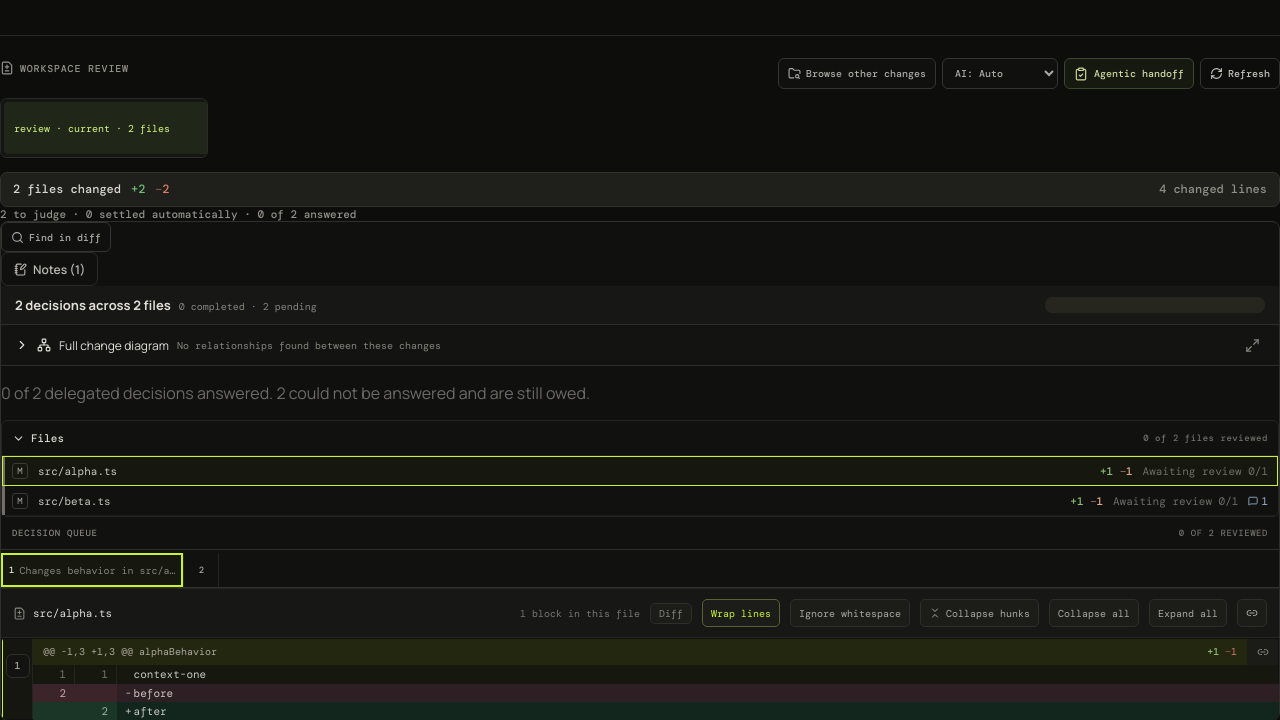
it: review notes in the diff view › lists a stored draft by file and line, and jumps to the line in a file that is not on screen
Expected: the element named "Full diff for src/alpha.ts" is shown, [1,589,1279,719]
Click the button "Notes (1)". click: (50, 269)
box: [1,252,98,286]
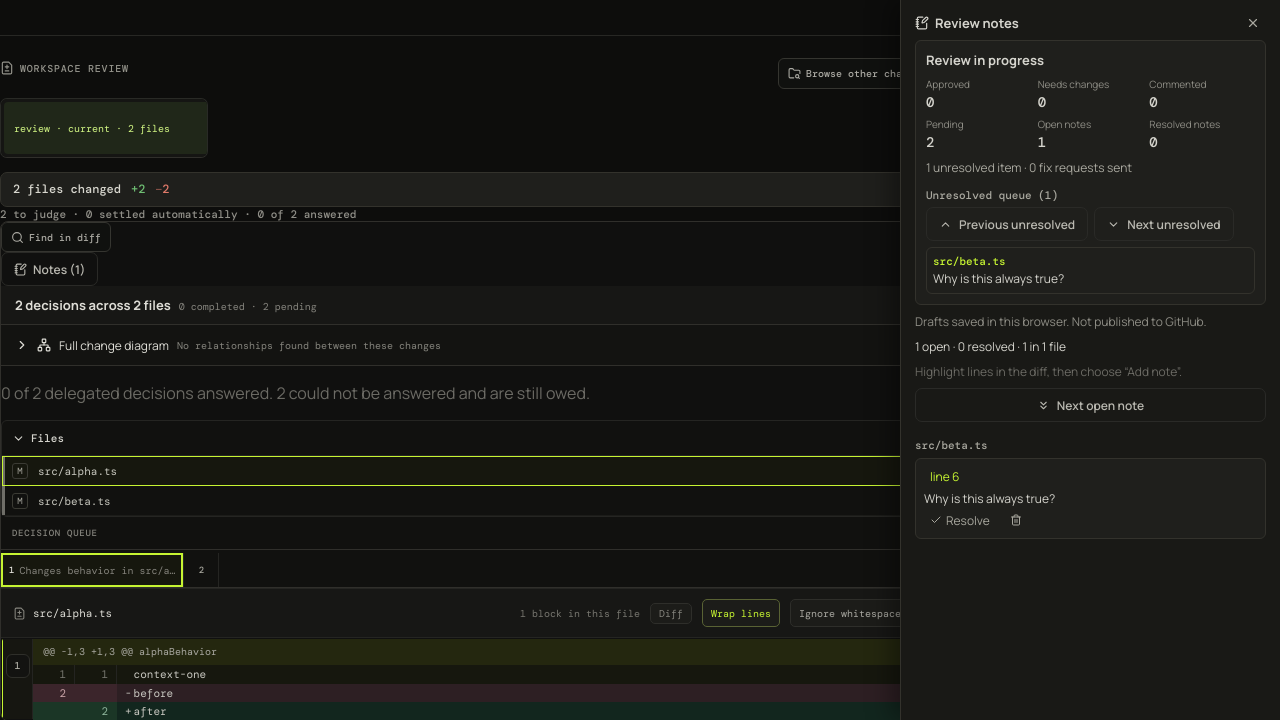
Expected: the 2nd text "Why is this always true?" is shown, [924,490,1055,507]
Click the button with aria-label "Jump to src/beta.ts line 6". click: (945, 476)
box: [924,467,966,486]
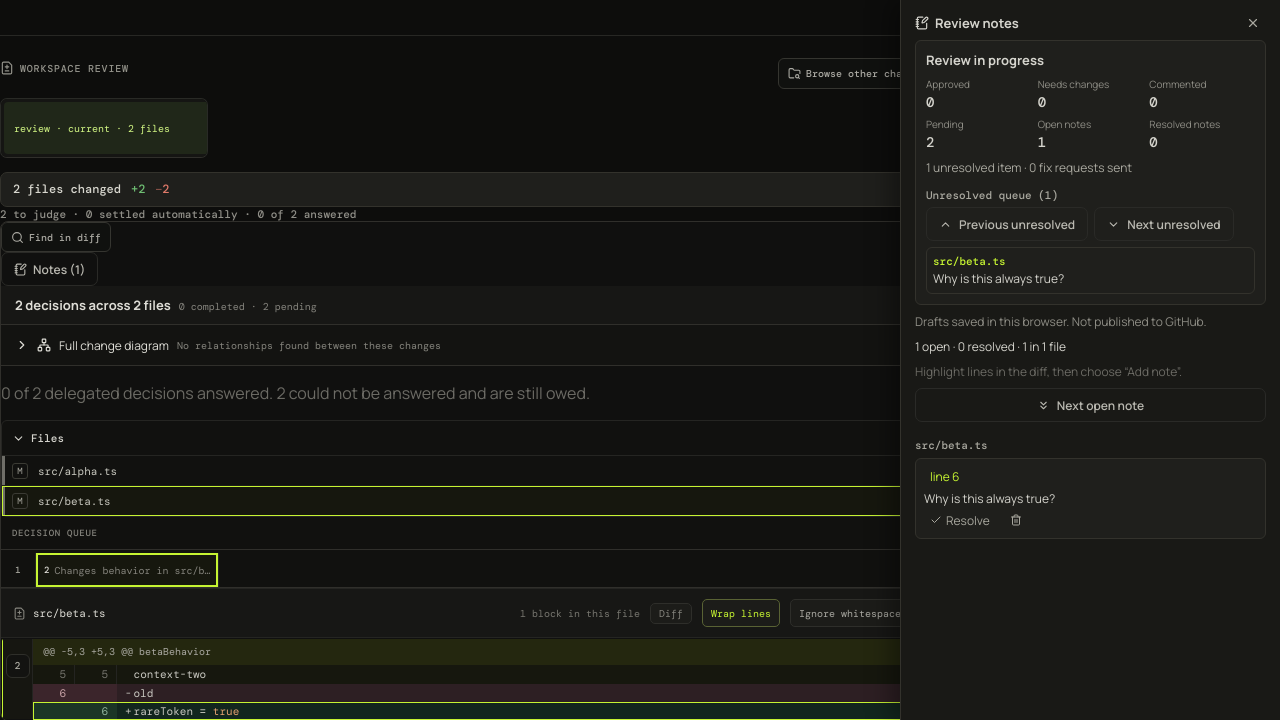
Expected: the element with class "search-hit" shows "rareToken = true", [33,702,1279,719]
